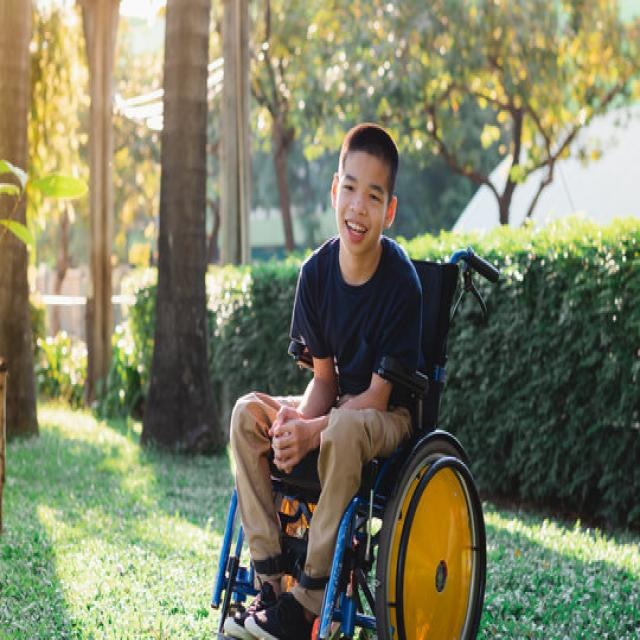wheelchairs: (204, 244, 528, 640)
